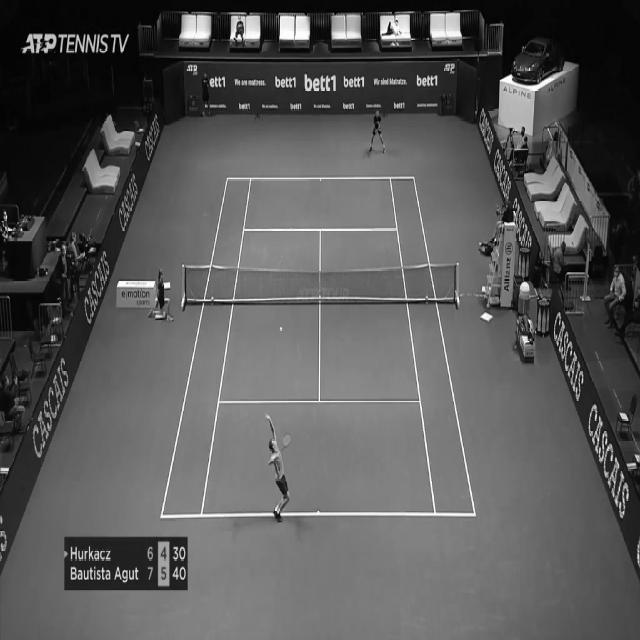tennis-court: (160, 176, 476, 518)
